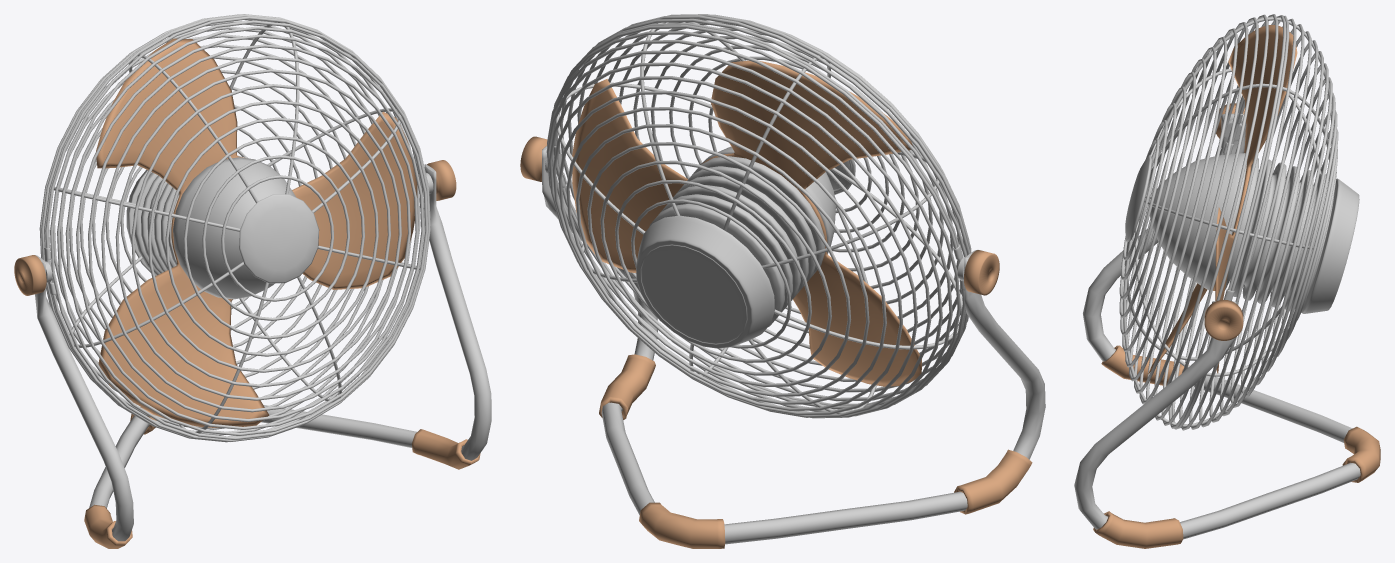
Rendered from blend0-riggedFan-quality-v2.glb.
3 renders of one model, left to right at view 1: azimuth 30°, elevation 25°; view 2: azimuth 150°, elevation 25°; view 3: azimuth 270°, elevation 25°, orthographic. The views are drawn at different scales.
Visible parts, largest first — view 1: riggedFan; view 2: riggedFan; view 3: riggedFan.
Part boxes in pixels (x1=…): riggedFan: x1=14, y1=14, x2=491, y2=548; riggedFan: x1=520, y1=14, x2=1045, y2=548; riggedFan: x1=1074, y1=14, x2=1380, y2=548.
Size of the model in its own units: 0.327 by 0.322 by 0.207.
